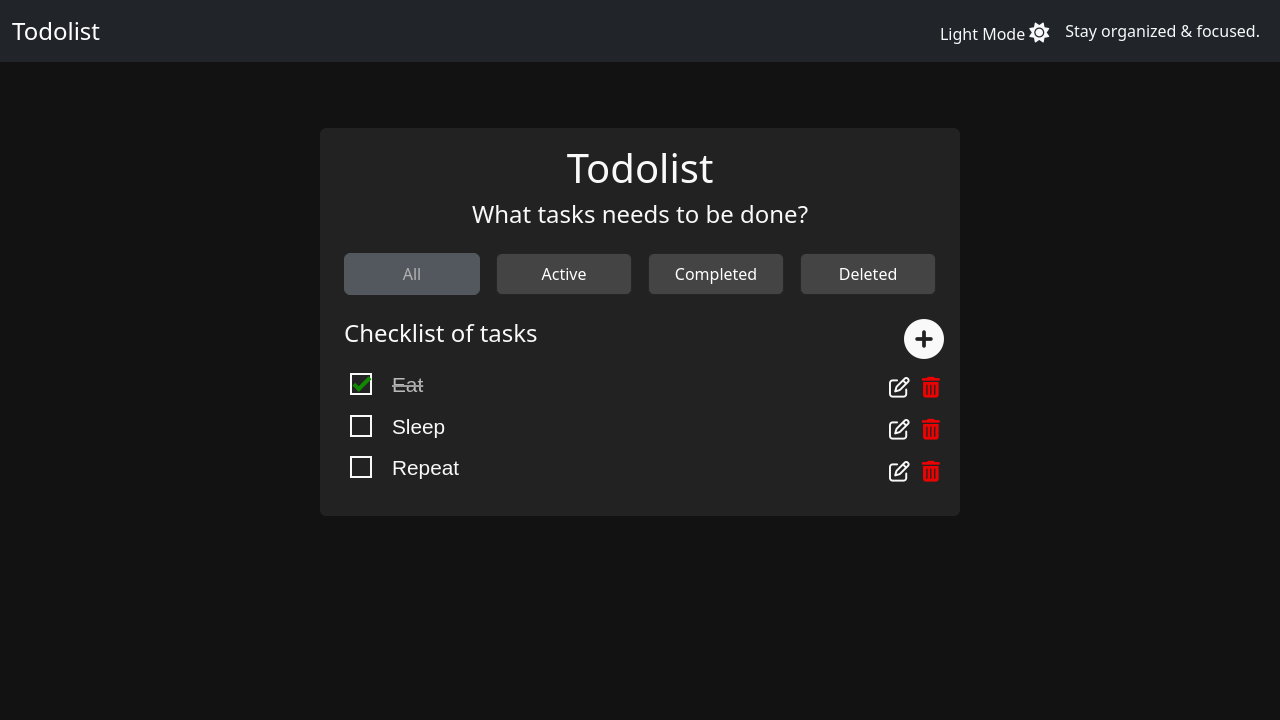
Test: todolist editTodo › should edit a particular todo
Click the icon named "Edit Note" in the row of "Sleep": (900, 430) [889,419,910,440]
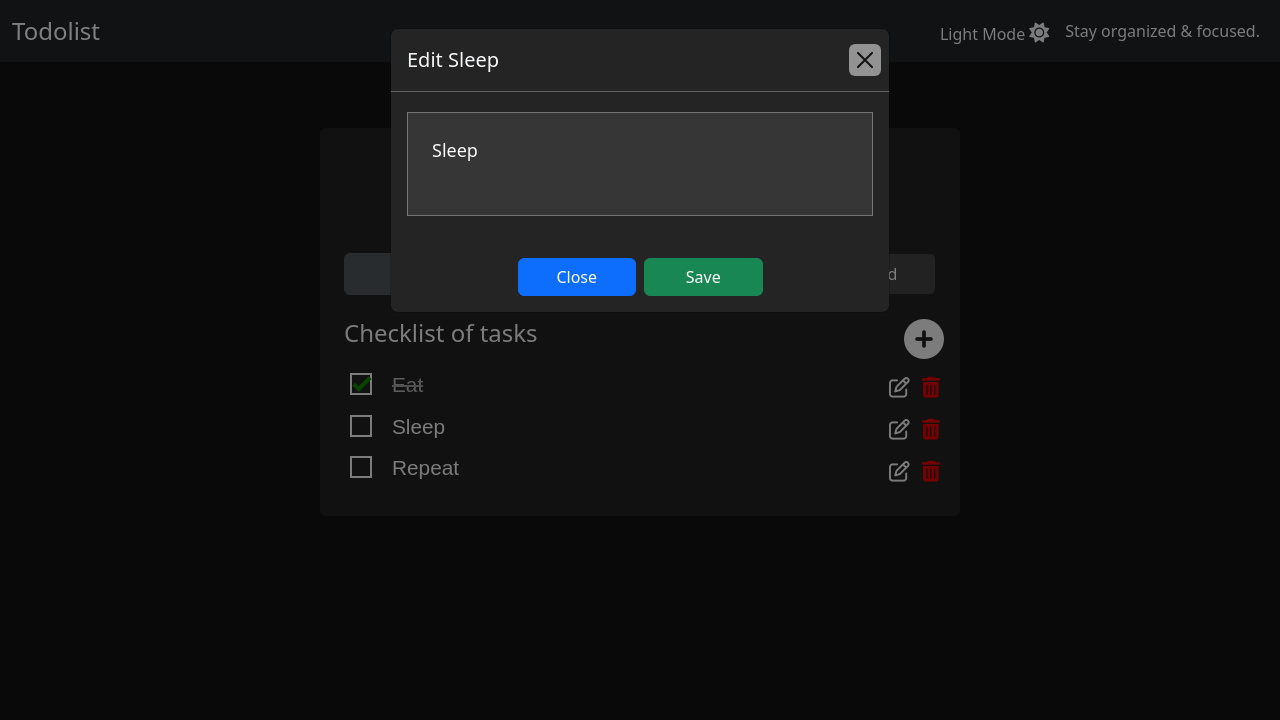
Replace the text in the text box with test id "editTodoTextbox" with "Code": (640, 164) [407,112,873,216]
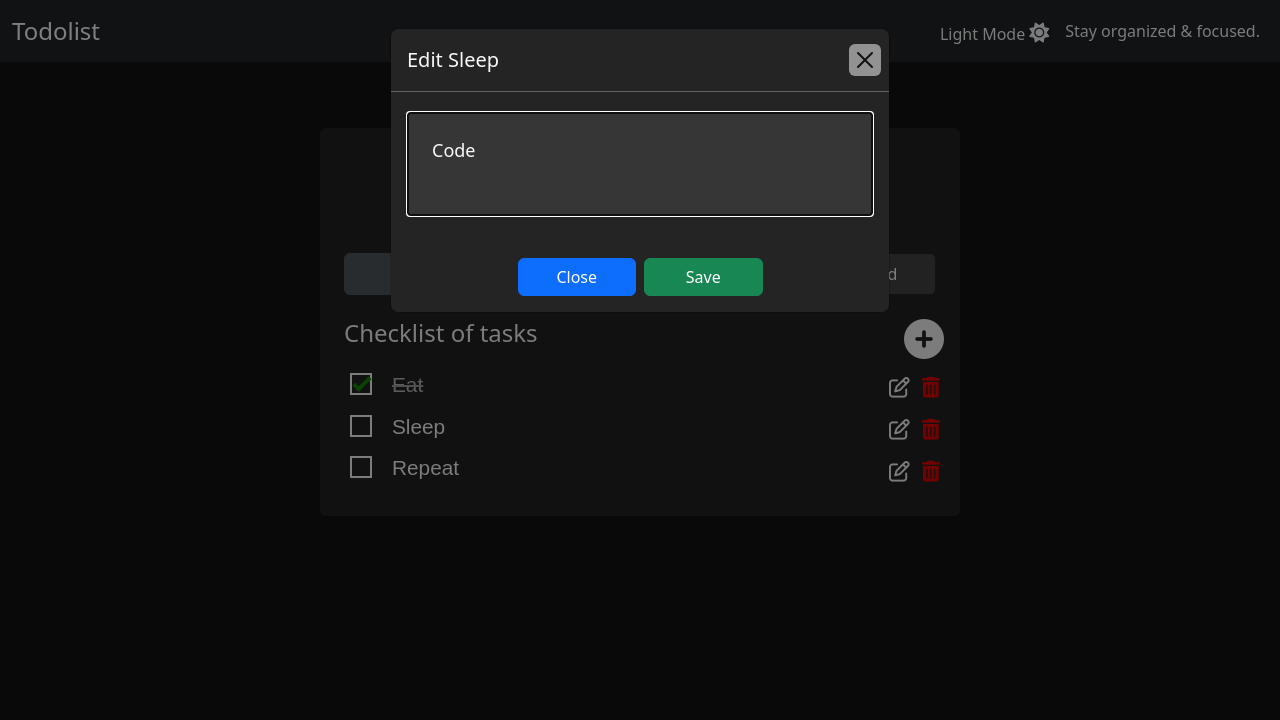
Click the button with test id "editTodoSave": (704, 277) [644,258,763,296]
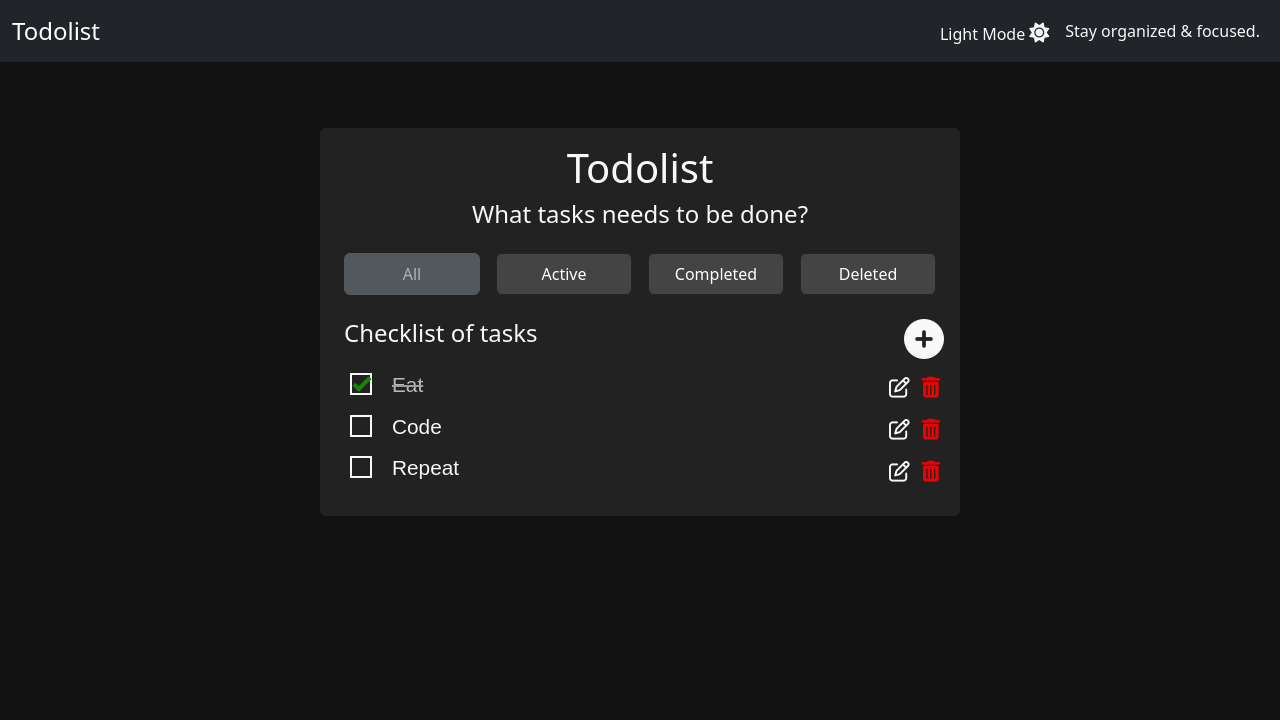
Expected: the number of checkboxes is 3, [392,373,423,396]; [392,415,442,438]; [392,456,459,479]
Expected: the checkbox labelled "Code" is shown, [392,415,442,438]
